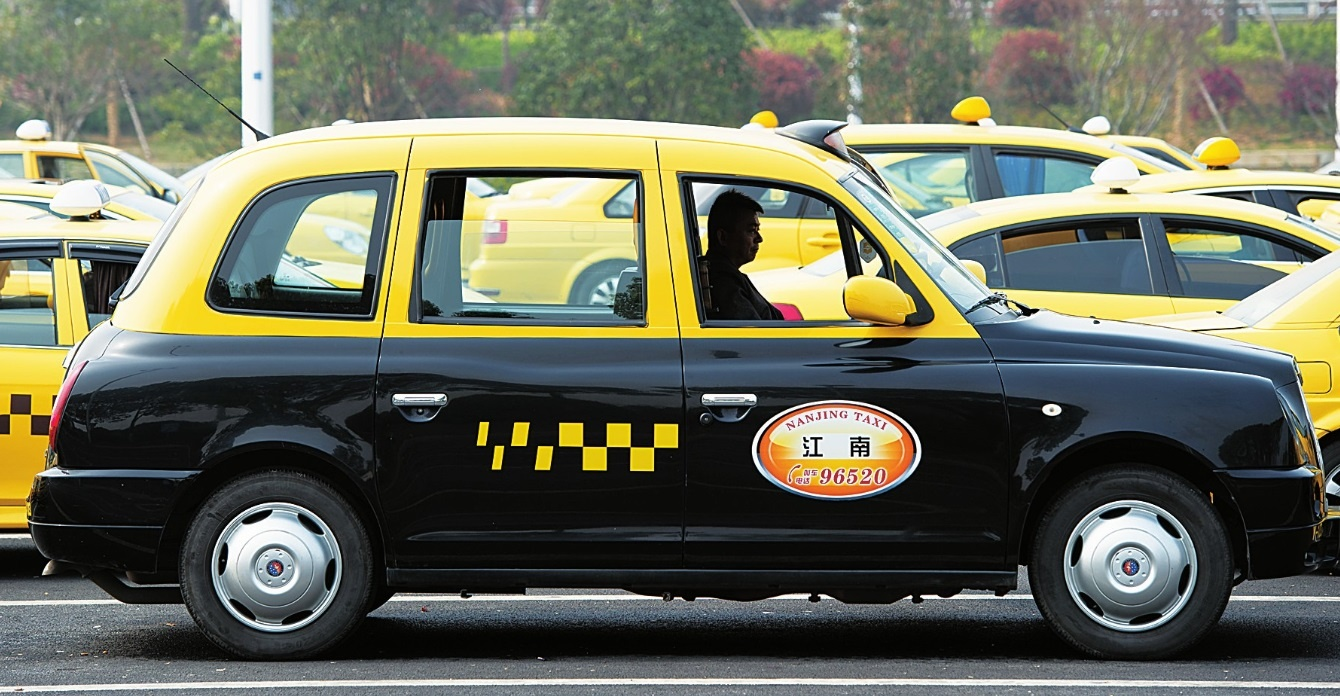taxi: (55, 109, 1316, 650)
